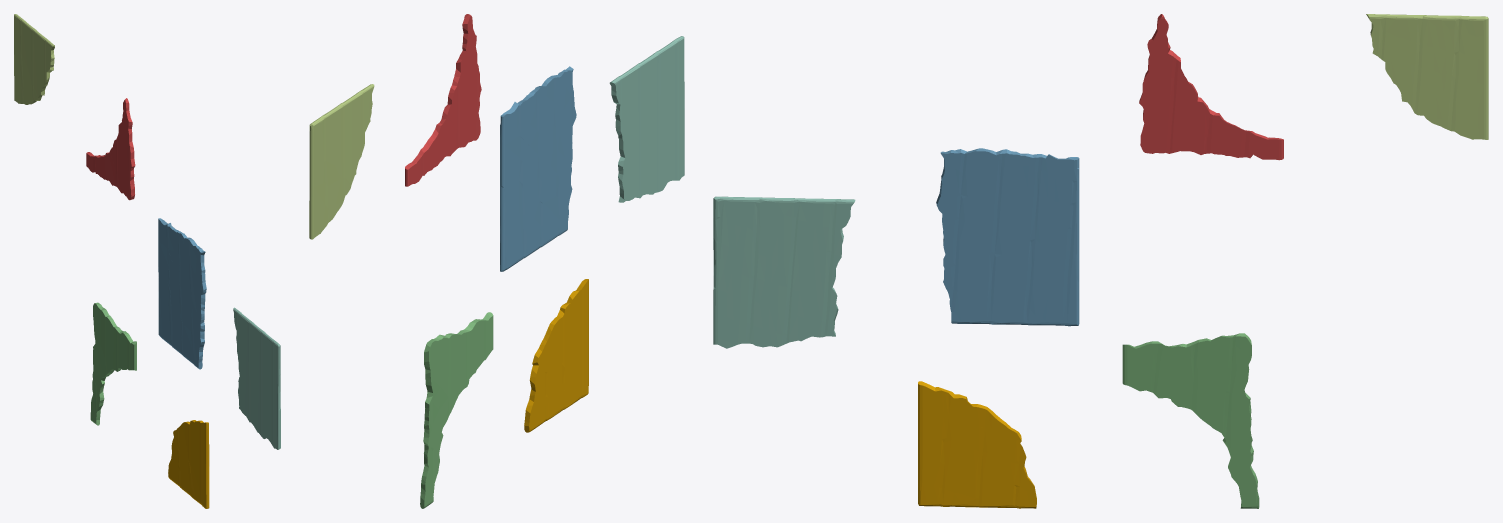
The model's file is fractured_36_6pcs_transformed.glb.
3 views of the same model, side by side, from view 1: azimuth 30°, elevation 25°; view 2: azimuth 150°, elevation 25°; view 3: azimuth 270°, elevation 25° (orthographic). The views are drawn at different scales.
Visible parts, largest first — view 1: piece_2.obj, piece_4.obj, piece_0.obj, piece_3.obj, piece_5.obj, piece_1.obj; view 2: piece_2.obj, piece_4.obj, piece_0.obj, piece_5.obj, piece_3.obj, piece_1.obj; view 3: piece_2.obj, piece_4.obj, piece_5.obj, piece_0.obj, piece_3.obj, piece_1.obj.
Boxes of the visible parts, box(x1,y1,x2,y2) form: piece_2.obj: box(158, 218, 206, 369); piece_4.obj: box(233, 307, 280, 449); piece_0.obj: box(168, 420, 209, 508); piece_3.obj: box(90, 302, 136, 425); piece_5.obj: box(14, 14, 54, 104); piece_1.obj: box(86, 98, 135, 200); piece_2.obj: box(500, 66, 576, 271); piece_4.obj: box(609, 36, 684, 202); piece_0.obj: box(524, 279, 588, 432); piece_5.obj: box(309, 84, 374, 239); piece_3.obj: box(420, 312, 493, 508); piece_1.obj: box(405, 14, 481, 186); piece_2.obj: box(936, 148, 1079, 326); piece_4.obj: box(713, 196, 855, 348); piece_5.obj: box(1366, 14, 1488, 139); piece_0.obj: box(918, 381, 1036, 508); piece_3.obj: box(1122, 333, 1259, 508); piece_1.obj: box(1139, 14, 1283, 160).
Size of the model in its own units: 0.0563 by 1.6 by 2.27.
